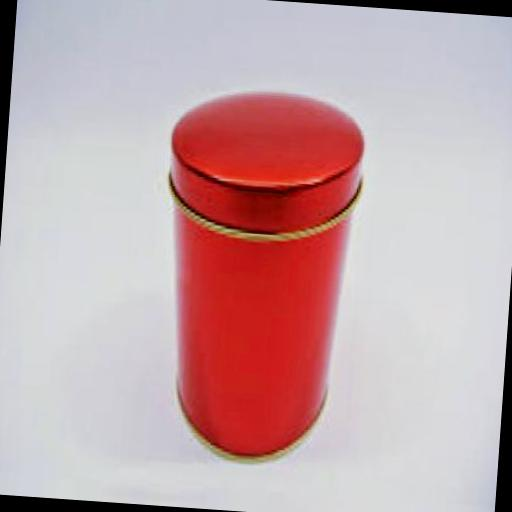metal: (149, 82, 367, 463)
